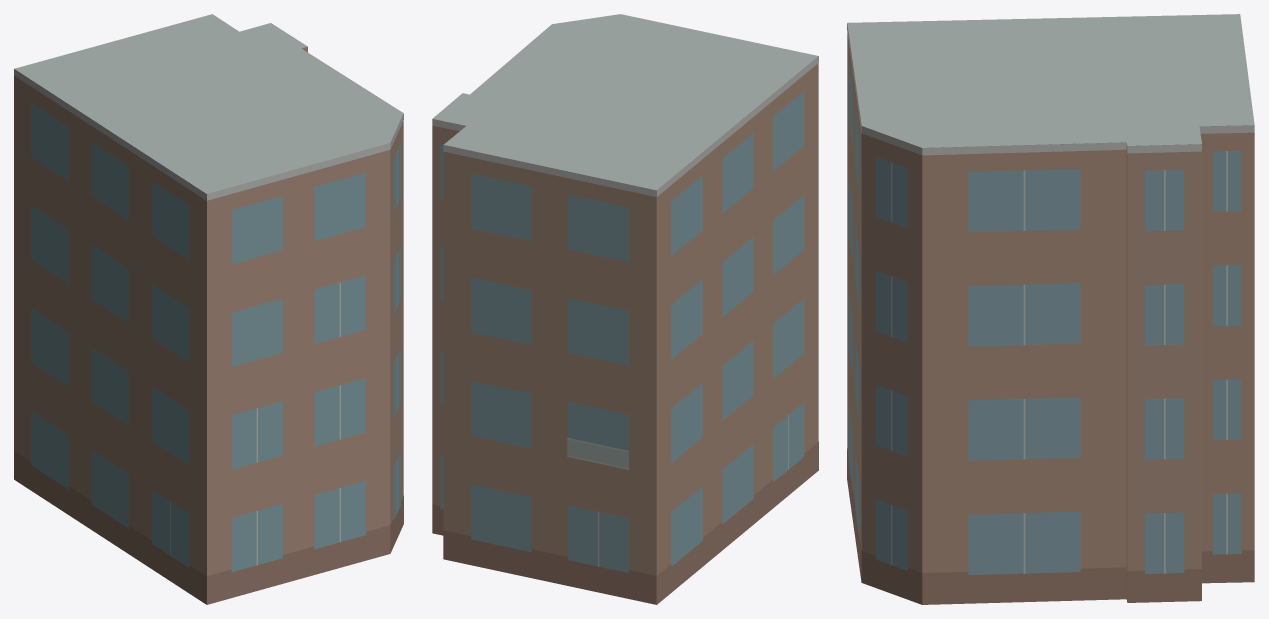
Rendered from survey-upis-32738835.glb.
3 renders of one model, left to right at view 1: azimuth 30°, elevation 25°; view 2: azimuth 150°, elevation 25°; view 3: azimuth 270°, elevation 25°, orthographic. The views are drawn at different scales.
Parts seen in each view (by area): view 1: survey-upis-32738835.tmp; view 2: survey-upis-32738835.tmp; view 3: survey-upis-32738835.tmp.
Boxes of the visible parts, x1=… form: survey-upis-32738835.tmp: x1=14, y1=14, x2=403, y2=604; survey-upis-32738835.tmp: x1=432, y1=14, x2=818, y2=604; survey-upis-32738835.tmp: x1=847, y1=14, x2=1254, y2=604.
Size of the model in its own units: 9.42 by 14.97 by 12.11.
